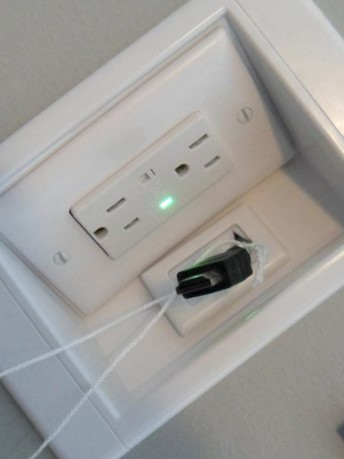outlet: (167, 132, 226, 182), (90, 189, 141, 241)
